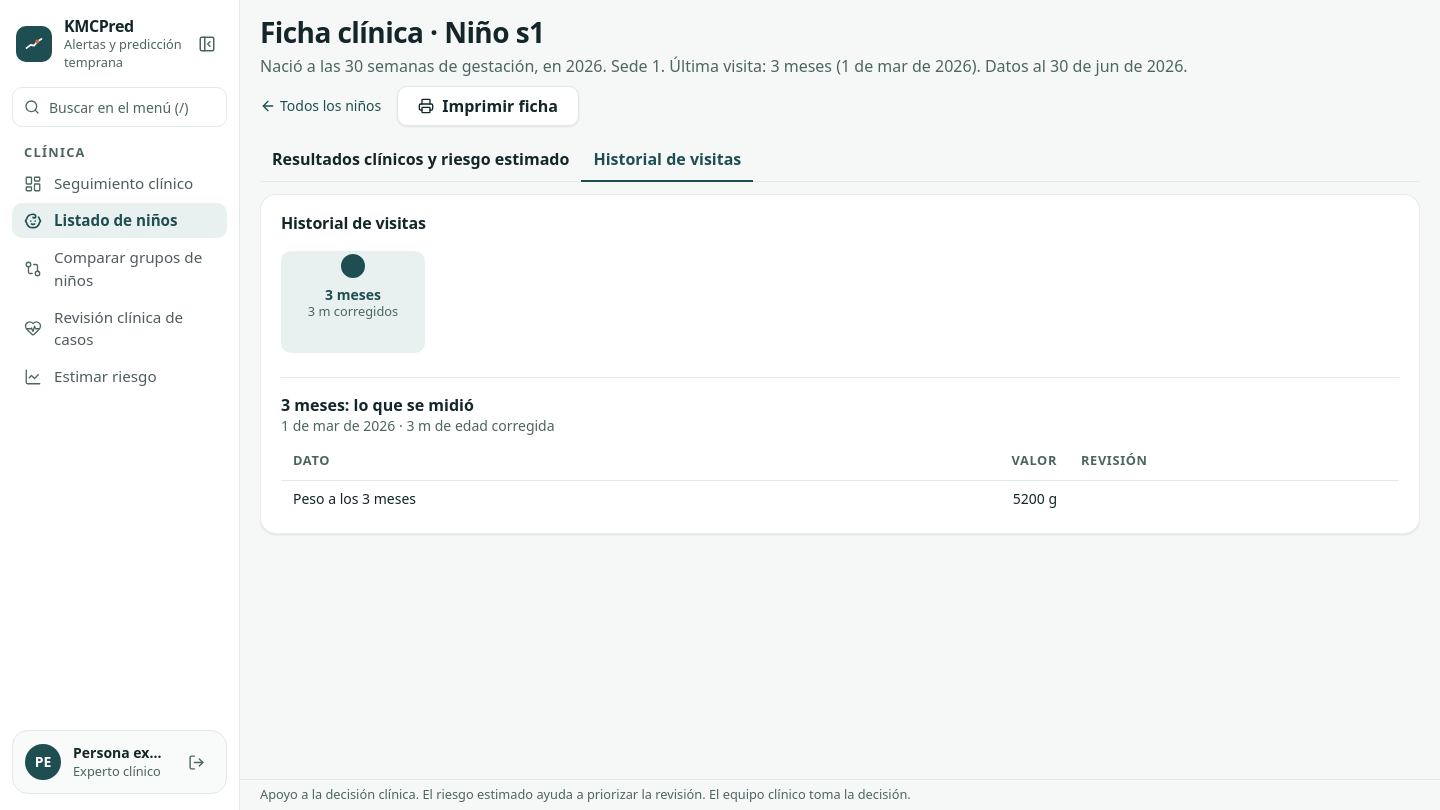
la ficha abre en una pestaña con contenido › con riesgo abre «Desenlaces»; sin ningún riesgo, la primera pestaña que tiene algo que mostrar
Expected: the text "Peso a los 3 meses" is shown, [281, 480, 816, 517]
# la pestaña de desenlaces sigue ahí, para ver por qué no hay riesgo
Click the tab "Resultados clínicos y riesgo estimado" at (421, 160), box [260, 138, 581, 182]
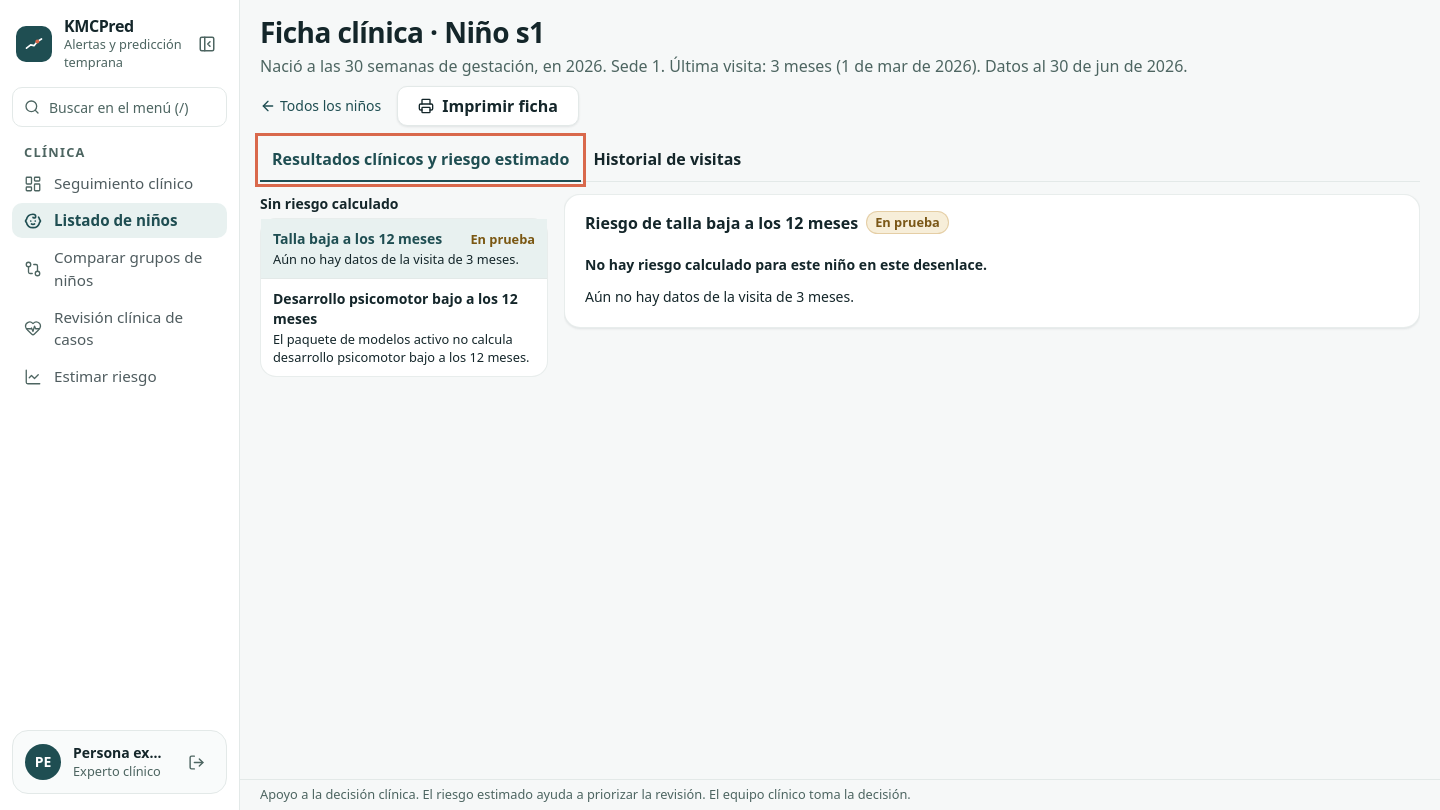
Expected: the text "Aún no hay datos de la visita de 3 meses." is shown, [273, 251, 535, 268]
